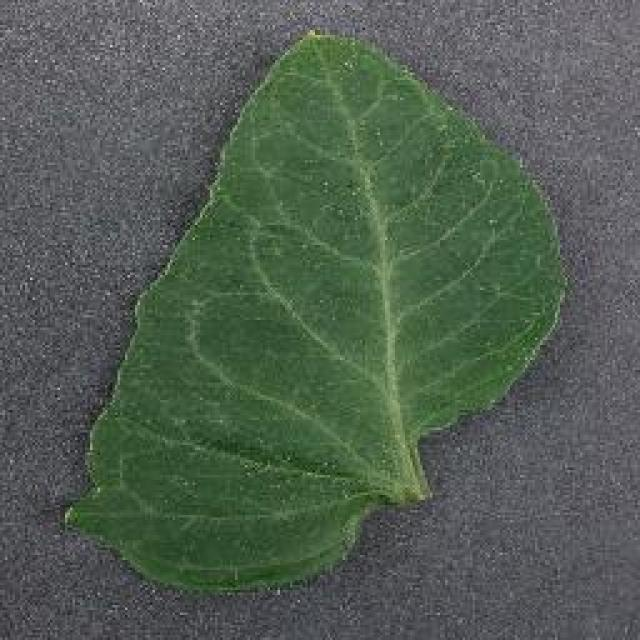Healthy: (50, 15, 578, 617)
